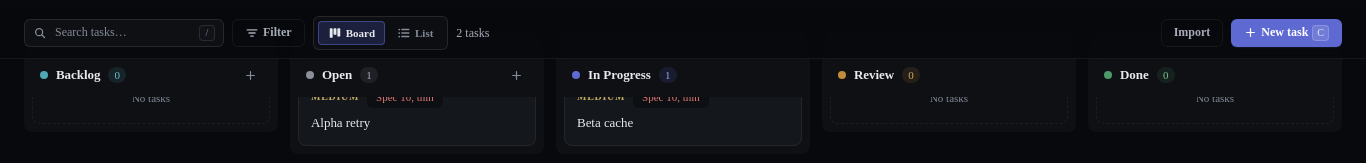
Scenario: board of a project with tasks › keeps the columns when the search hides every task
Expected: the button "New task C" is enabled, [1231,18,1342,46]
Step 1. Type "zzz-no-match" into the search field labelled "Search tasks" → (123, 32), box [55,25,191,40]
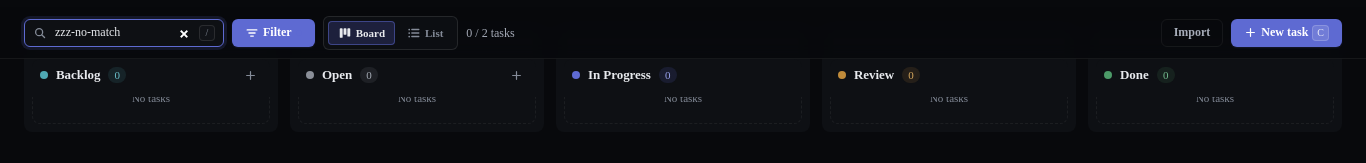
Now the element named "Open, 0 tasks" is shown, box [290,27,544,132]
